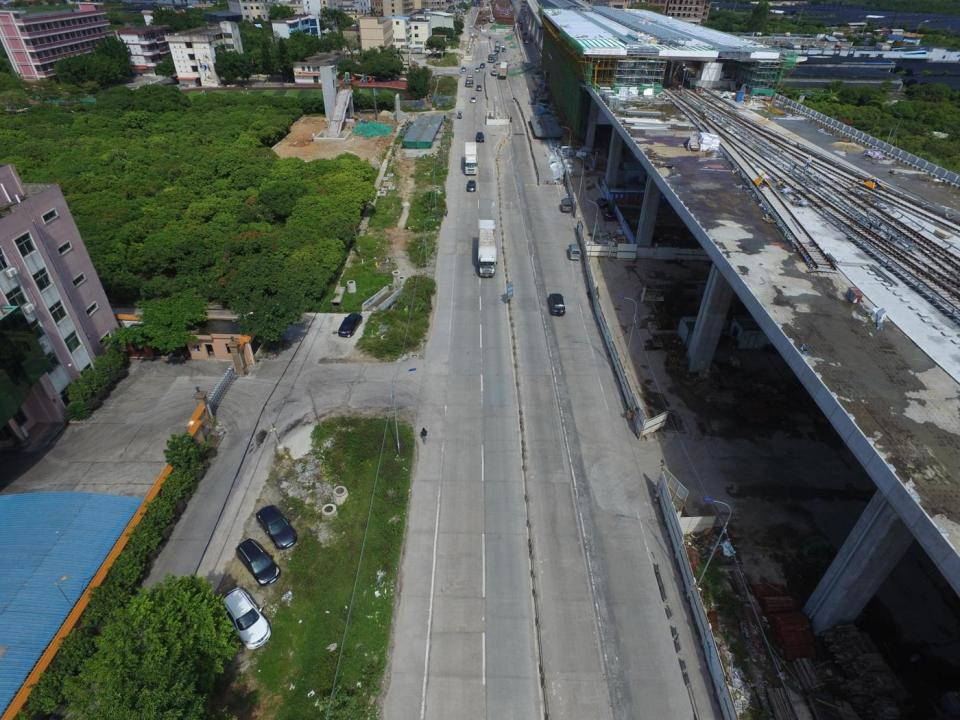bus: (488, 51, 499, 62)
car: (220, 588, 270, 649), (235, 538, 281, 586), (255, 504, 298, 550), (338, 314, 363, 338), (602, 207, 615, 222), (465, 180, 476, 193), (597, 197, 608, 209), (476, 132, 485, 142), (470, 96, 477, 104), (476, 84, 483, 92), (456, 111, 462, 119), (460, 67, 466, 72), (481, 63, 486, 68), (492, 71, 496, 76), (501, 44, 505, 49), (474, 68, 478, 72), (502, 49, 506, 52)
truck: (477, 218, 497, 278), (464, 143, 478, 174), (499, 61, 508, 79), (466, 72, 473, 86), (495, 44, 499, 51)
van: (548, 294, 566, 316), (567, 243, 581, 262), (561, 198, 572, 213)
